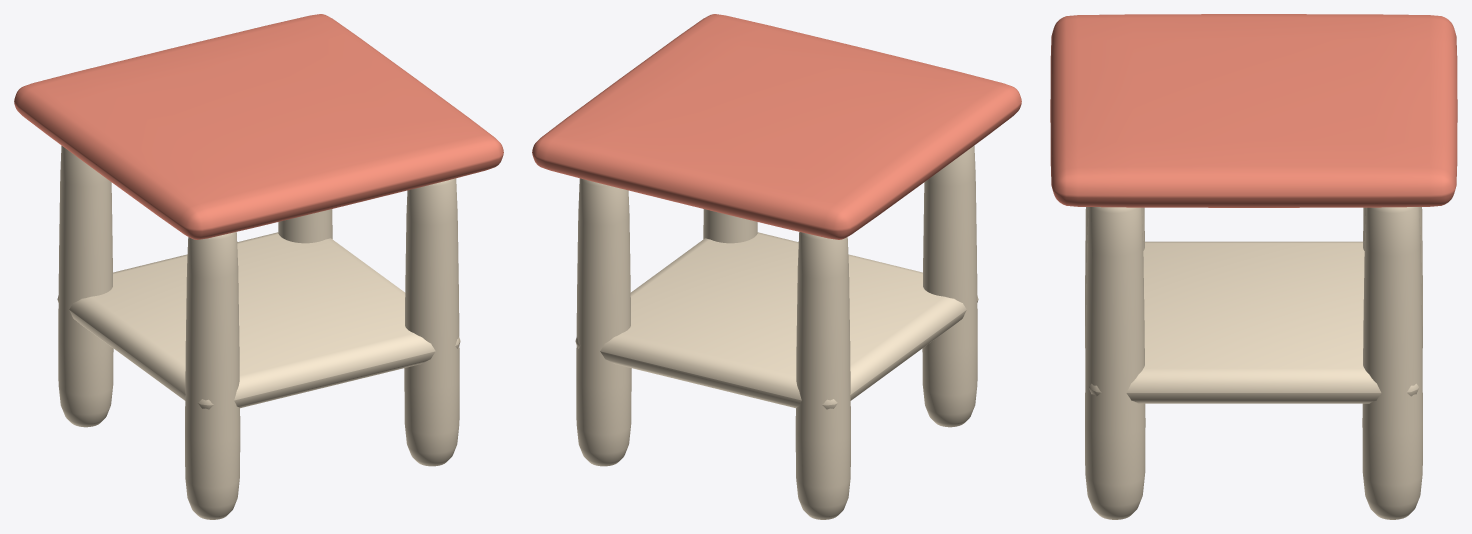
Rendered from side_table_b.glb.
3 renders of one model, left to right at view 1: azimuth 30°, elevation 25°; view 2: azimuth 150°, elevation 25°; view 3: azimuth 270°, elevation 25°, orthographic. The views are drawn at different scales.
Parts seen in each view (by area): view 1: body; view 2: body; view 3: body.
Part boxes in pixels (box(x1,y1,x2,y2)): body: box(14, 14, 503, 519); body: box(532, 14, 1021, 519); body: box(1050, 14, 1457, 519).
Size of the model in its own units: 0.44 by 0.44 by 0.44.
